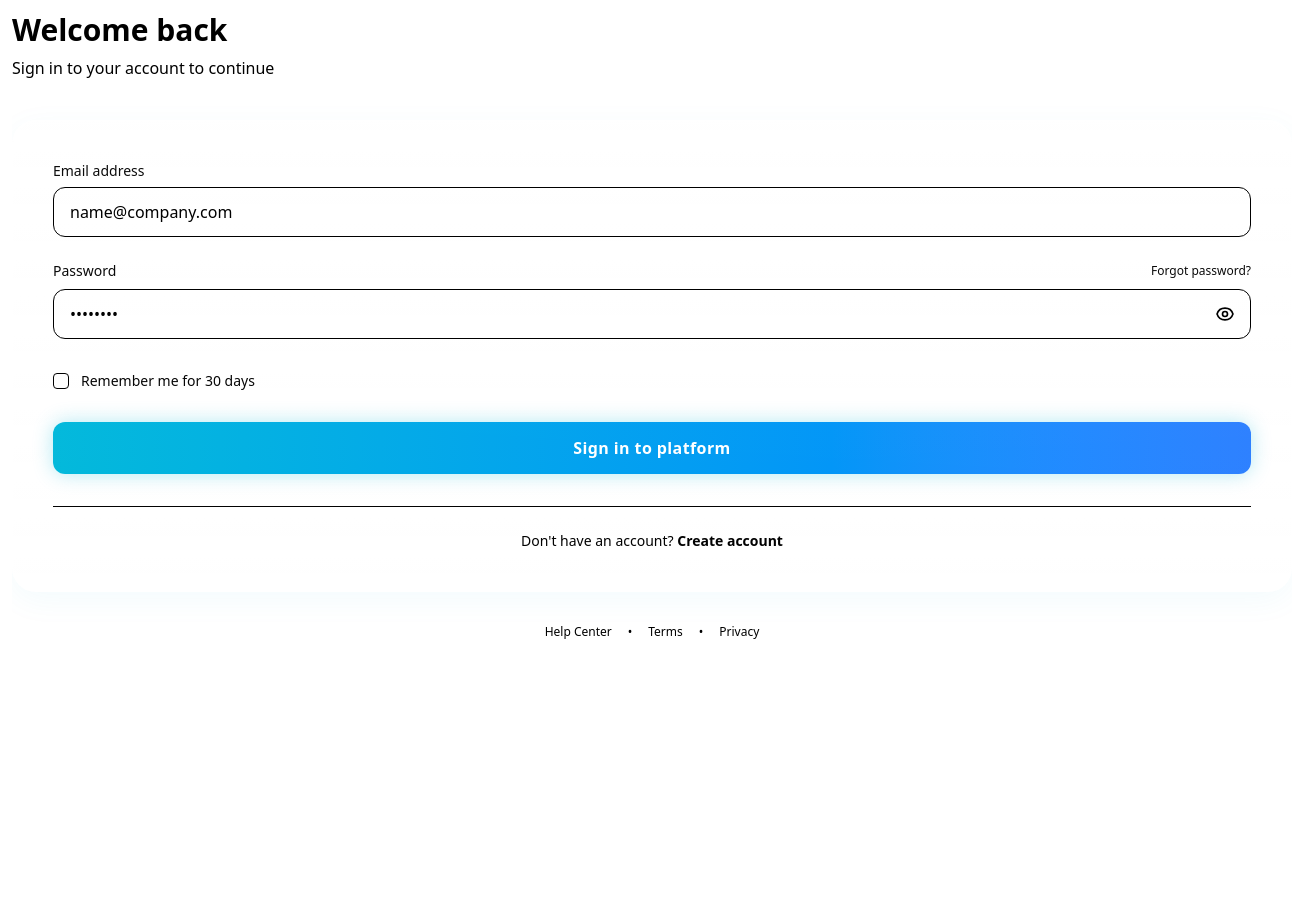
Scenario: Login Page › shows validation errors for empty submission
The image size is (1292, 912).
Click the button "Sign in to platform" at (652, 448), box [53,422,1251,474]
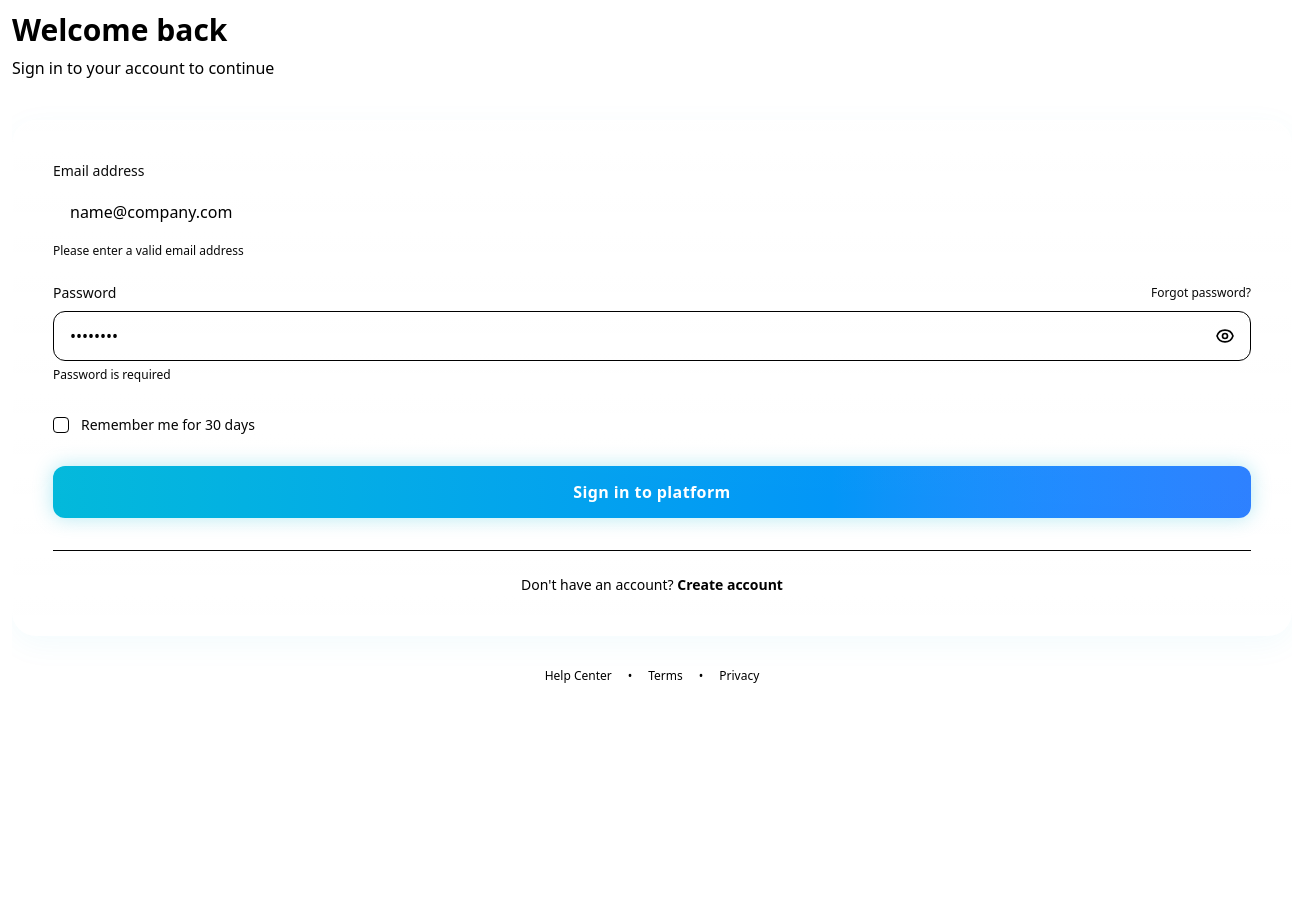
Check: the text "Please enter a valid email address" is shown, box [53,242,244,259]
Check: the text "Password is required" is shown, box [53,366,171,383]
